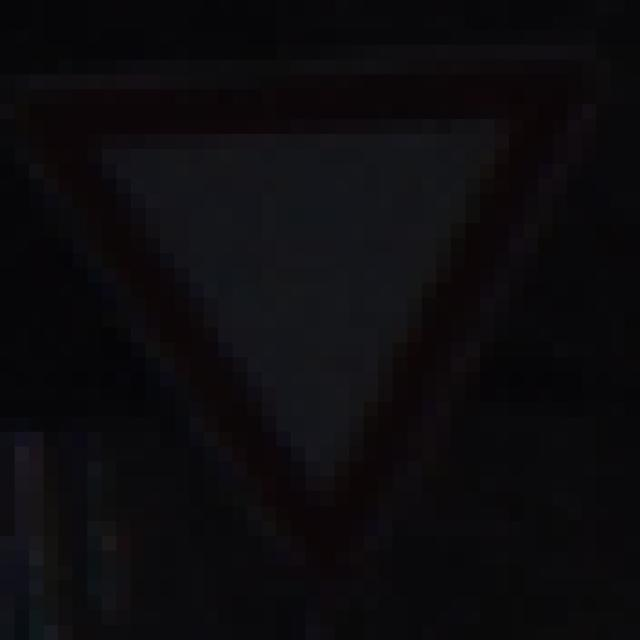Give Way: (74, 76, 568, 567)
